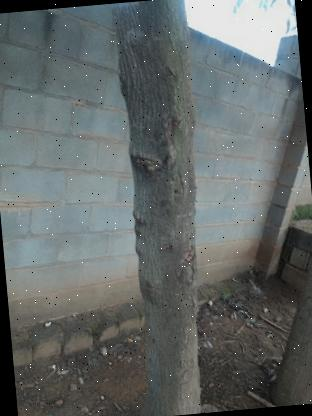tree: (100, 0, 229, 416)
